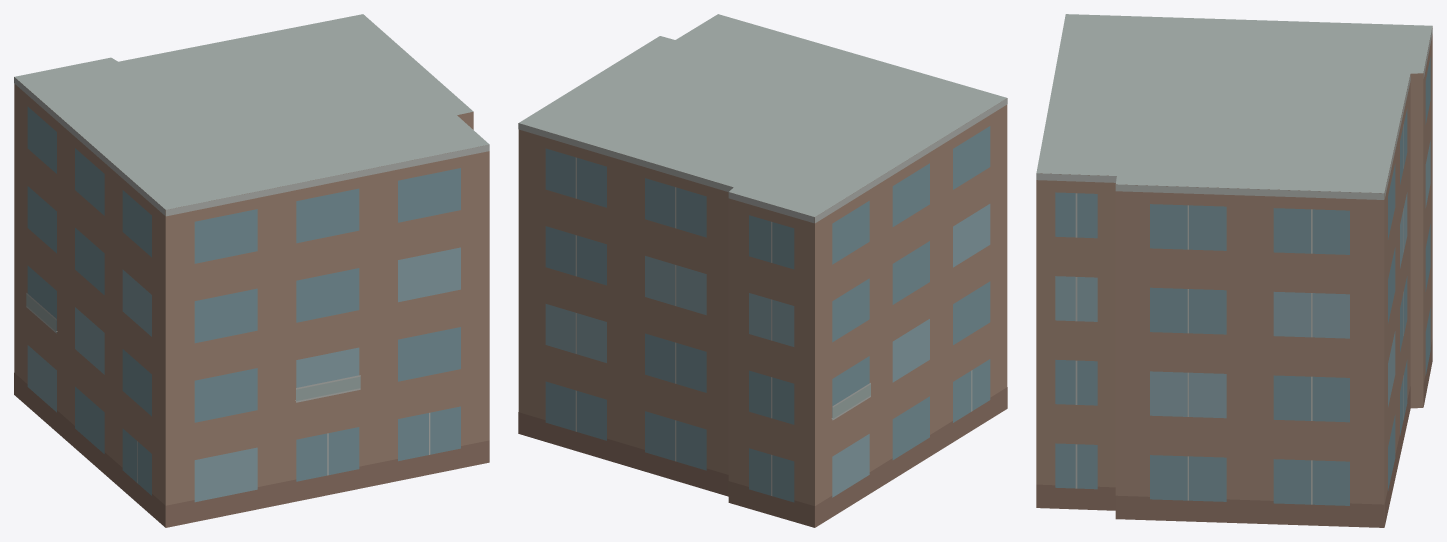
The model's file is survey-upis-32832336.glb.
3 renders of one model, left to right at view 1: azimuth 30°, elevation 25°; view 2: azimuth 150°, elevation 25°; view 3: azimuth 270°, elevation 25°, orthographic. The views are drawn at different scales.
Parts seen in each view (by area): view 1: survey-upis-32832336.tmp; view 2: survey-upis-32832336.tmp; view 3: survey-upis-32832336.tmp.
Part boxes in pixels (left/top/right/bottom): survey-upis-32832336.tmp: left=14, top=14, right=489, bottom=527; survey-upis-32832336.tmp: left=518, top=14, right=1007, bottom=527; survey-upis-32832336.tmp: left=1036, top=14, right=1432, bottom=527.
Bounding box in the file's own units: 13.67 × 11.9 × 12.78.
